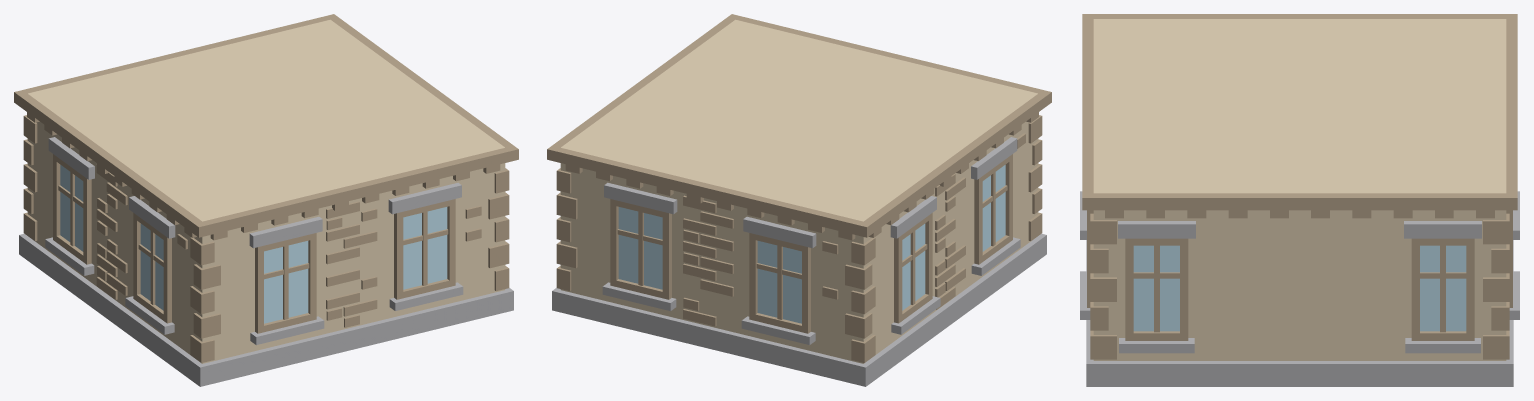
The model's file is building.brickroom.glb.
The picture shows the model from 3 angles, left to right: view 1: azimuth 30°, elevation 25°; view 2: azimuth 150°, elevation 25°; view 3: azimuth 270°, elevation 25°; orthographic projection. The views are drawn at different scales.
Visible parts, largest first — view 1: Paint, PaintDark, Stone, Glass; view 2: Paint, PaintDark, Stone, Glass; view 3: Paint, PaintDark, Stone, Glass.
Boxes of the visible parts, box(x1,y1,x2,y2) form: Paint: box(27, 19, 505, 363); PaintDark: box(14, 14, 518, 362); Stone: box(19, 137, 513, 386); Glass: box(60, 165, 447, 323); Paint: box(560, 19, 1038, 363); PaintDark: box(547, 14, 1051, 362); Stone: box(552, 137, 1046, 386); Glass: box(618, 165, 1005, 323); Paint: box(1093, 19, 1506, 360); PaintDark: box(1082, 14, 1517, 359); Stone: box(1080, 191, 1519, 386); Glass: box(1133, 245, 1466, 331).
Size of the model in its own units: 2.09 by 1 by 2.09.
